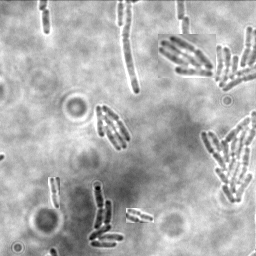Dividing: (123, 1, 142, 95), (126, 208, 154, 223), (48, 177, 60, 209), (41, 8, 52, 35)
Microcolony: (200, 109, 255, 205), (212, 25, 255, 94), (158, 34, 216, 78), (89, 184, 126, 248), (96, 103, 132, 150), (182, 16, 193, 33)
